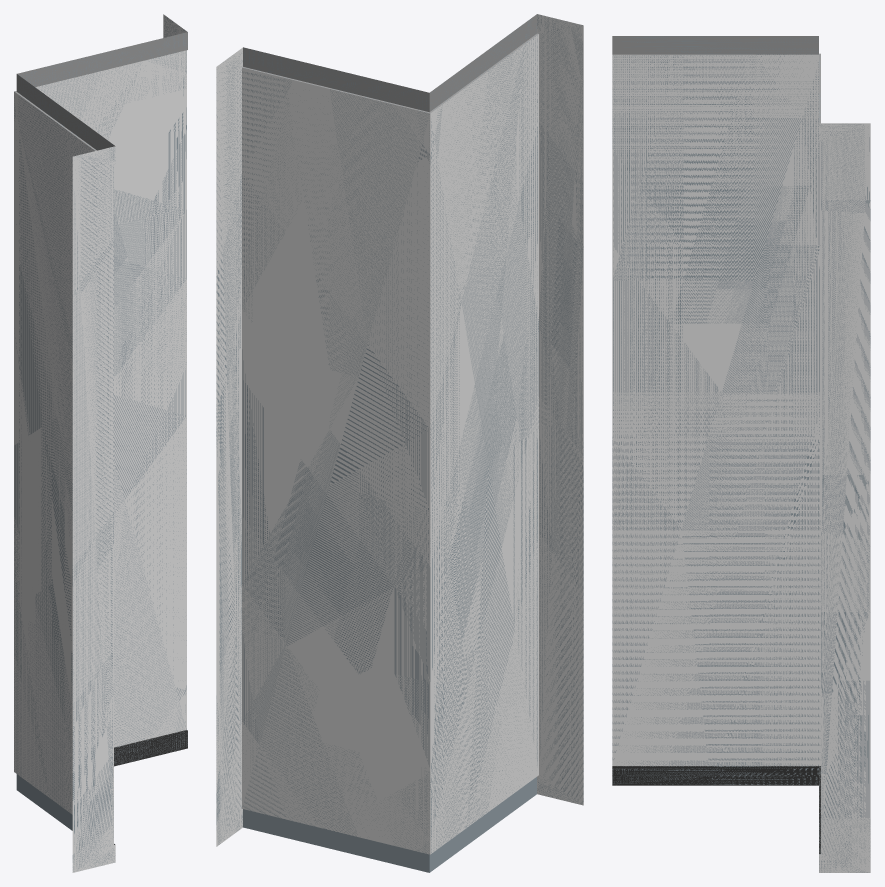
The model's file is Corner_os_plinth_100x100x025x4.dae.
3 renders of one model, left to right at view 1: azimuth 30°, elevation 25°; view 2: azimuth 150°, elevation 25°; view 3: azimuth 270°, elevation 25°, orthographic. The views are drawn at different scales.
Parts seen in each view (by area): view 1: group_0 (×3); view 2: group_0 (×3); view 3: group_0 (×3).
Boxes of the visible parts, <box> form: group_0 (×3): <box>14,14,187,872</box>; group_0 (×3): <box>216,14,583,872</box>; group_0 (×3): <box>612,36,870,872</box>.
Size of the model in its own units: 49.21 by 49.21 by 157.
